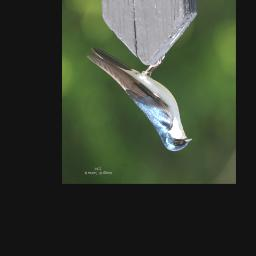Swallow: (86, 46, 193, 151)
